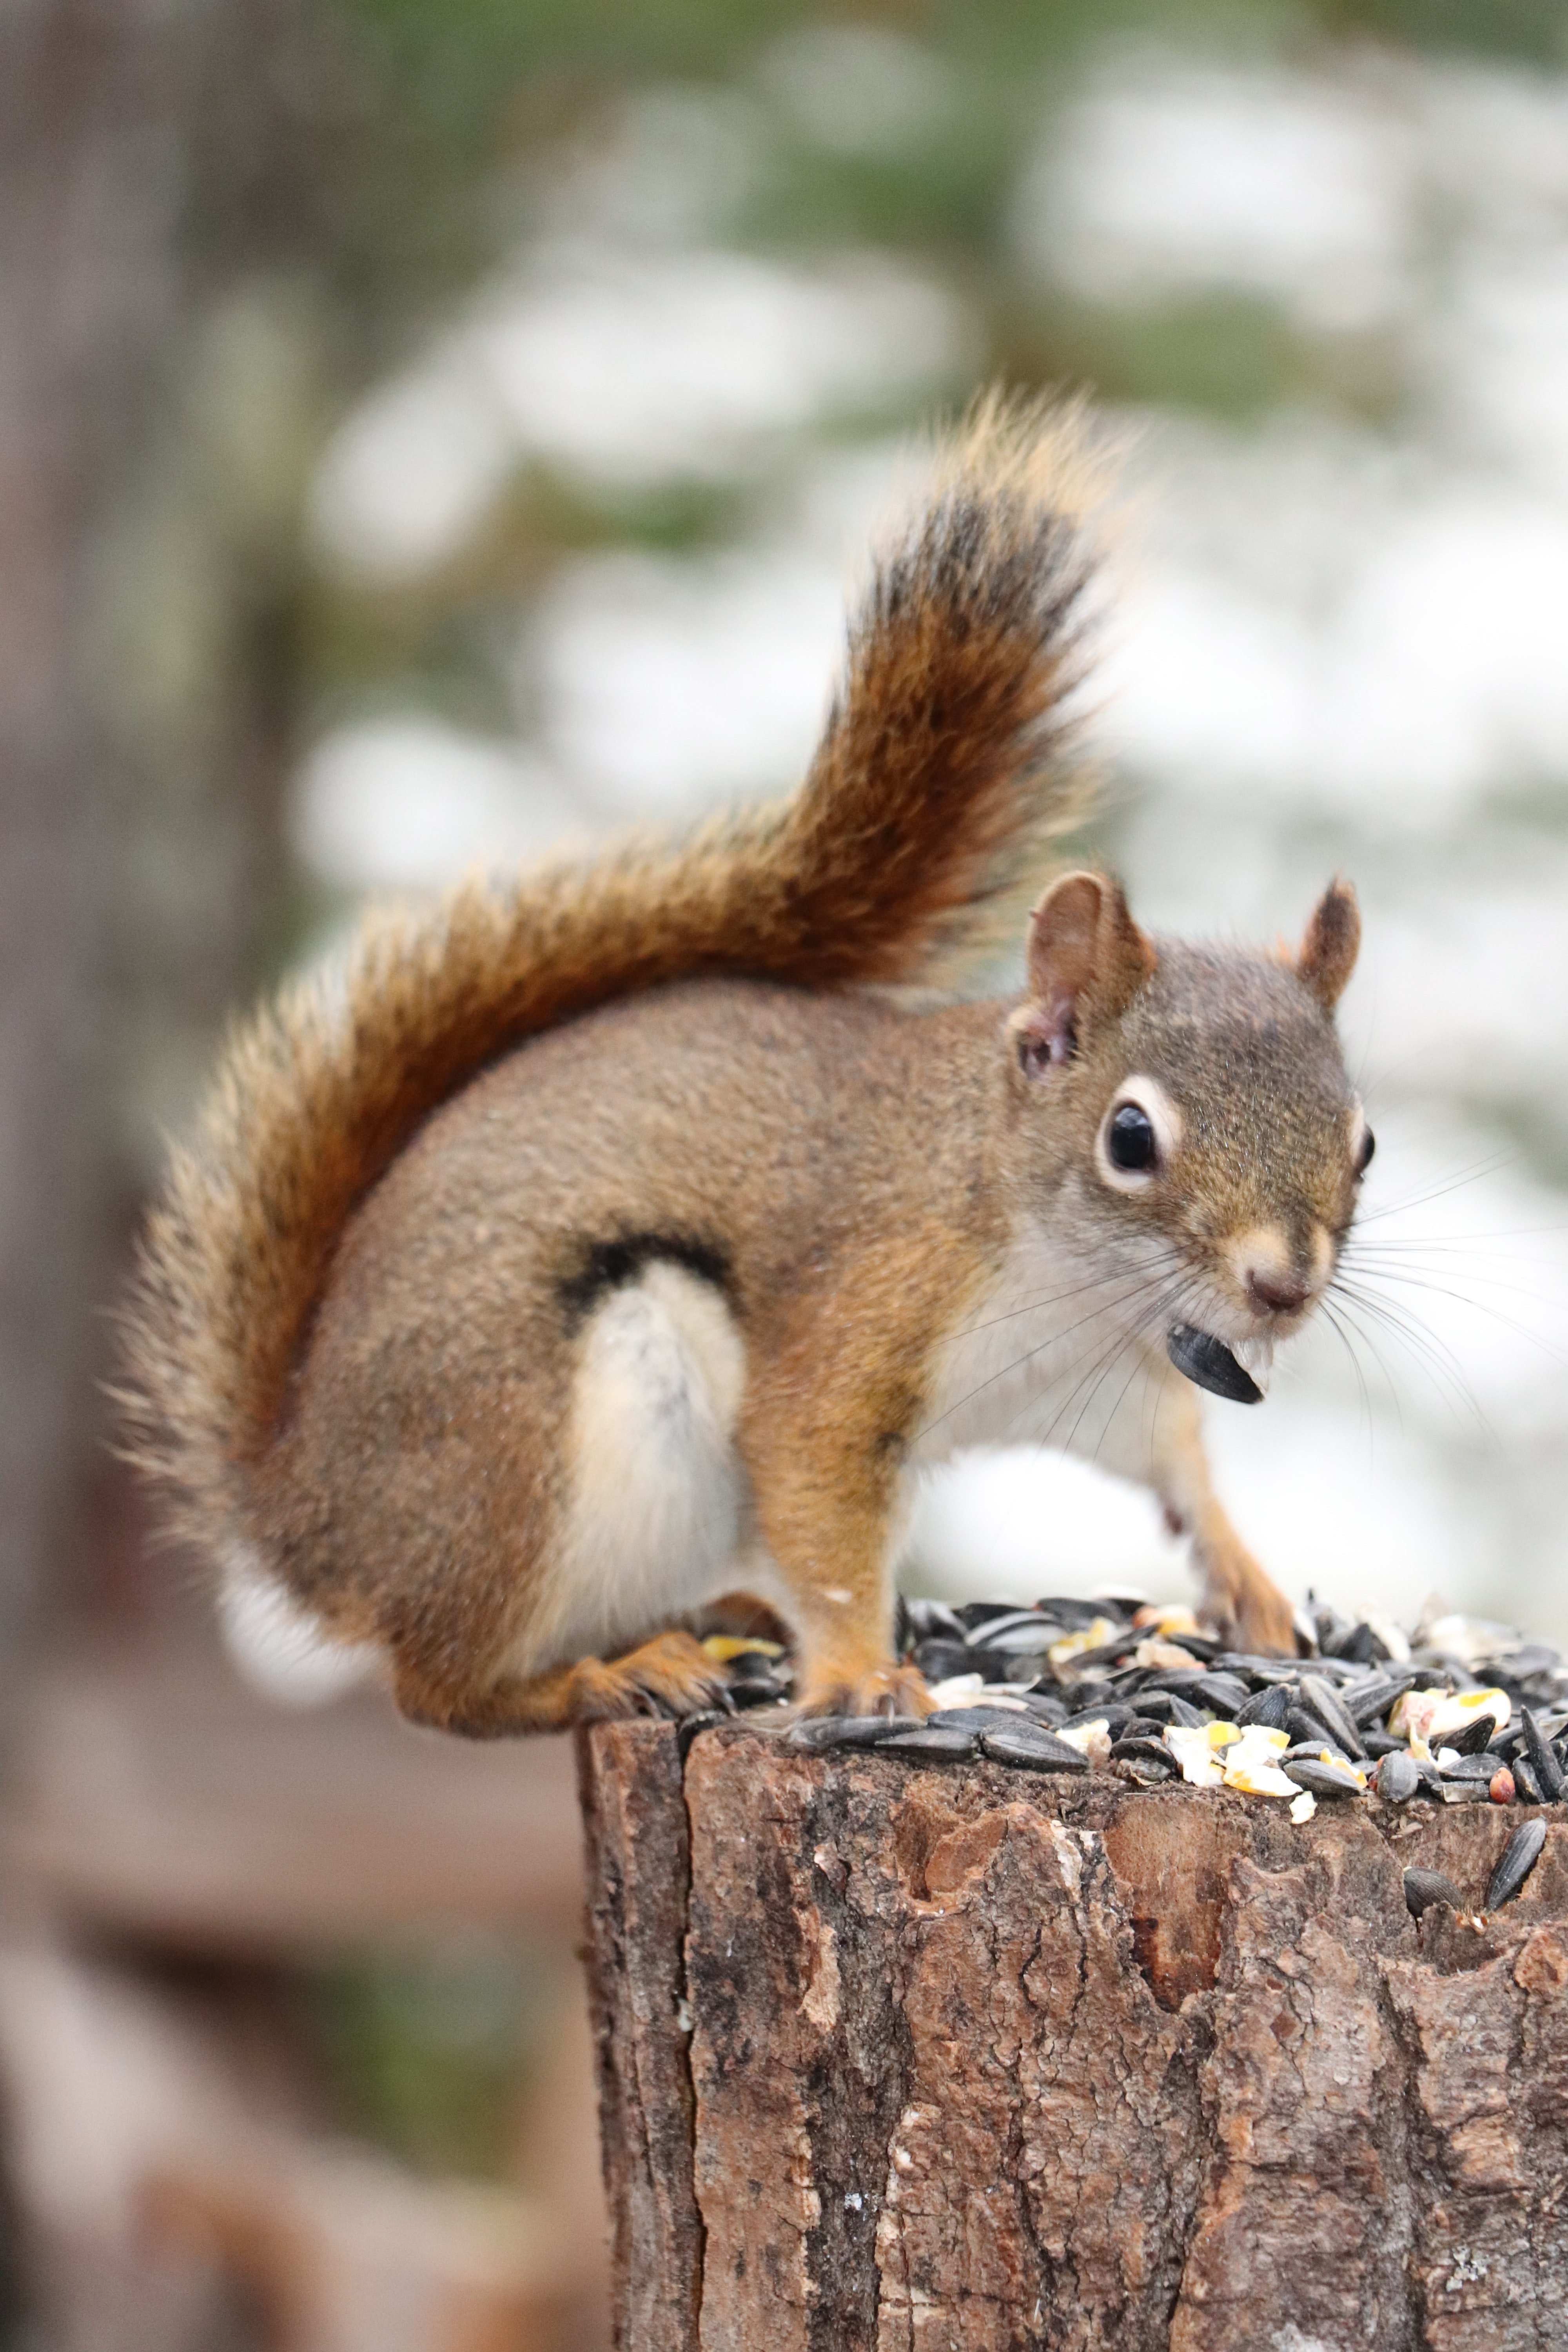squirrel: (121, 465, 1374, 1734)
